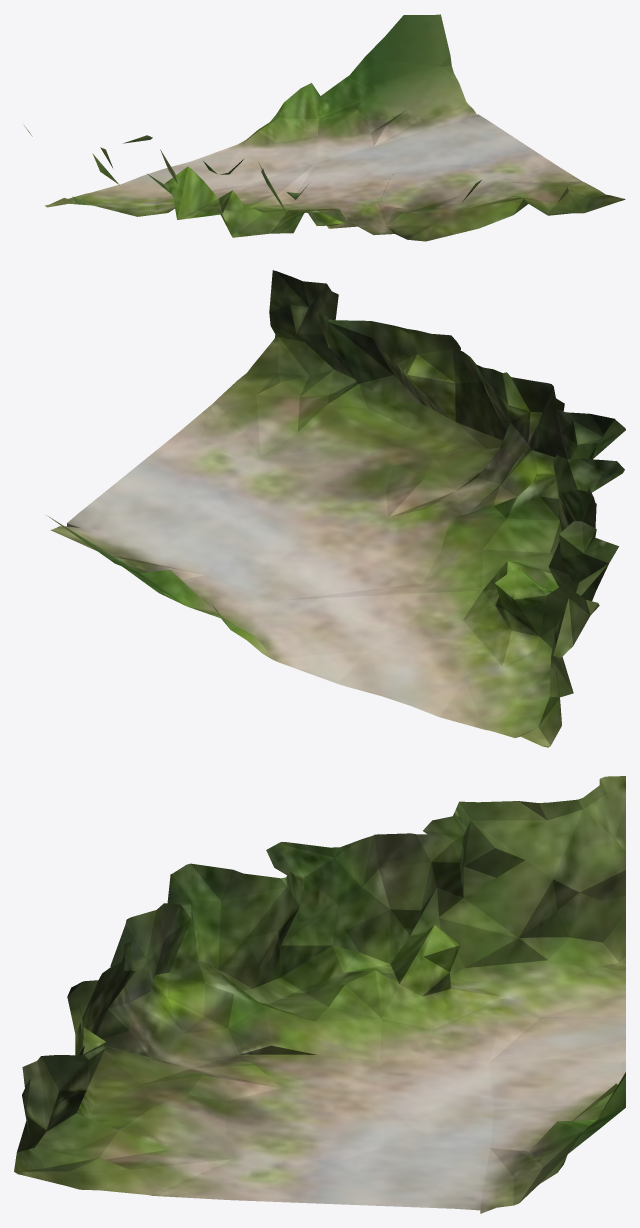
3 renders of one model, top to bottom at view 1: azimuth 30°, elevation 25°; view 2: azimuth 150°, elevation 25°; view 3: azimuth 270°, elevation 25°, orthographic. The views are drawn at different scales.
Size of the model in its own units: 16.25 by 3.85 by 13.12.
1 material, 1 textured.
